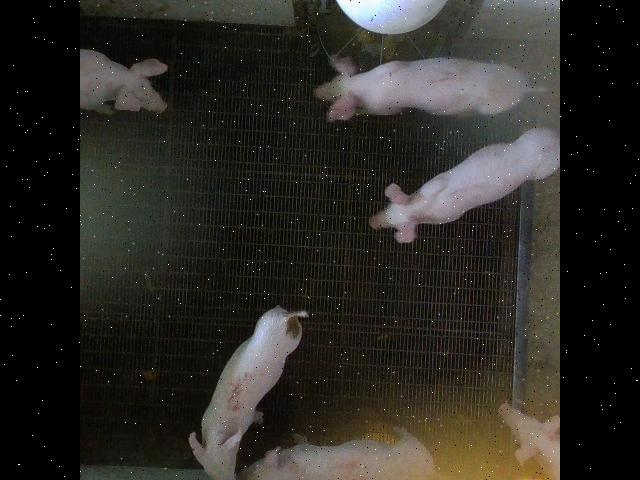pig-4: (237, 429, 436, 480)
pig-5: (189, 305, 307, 480)
